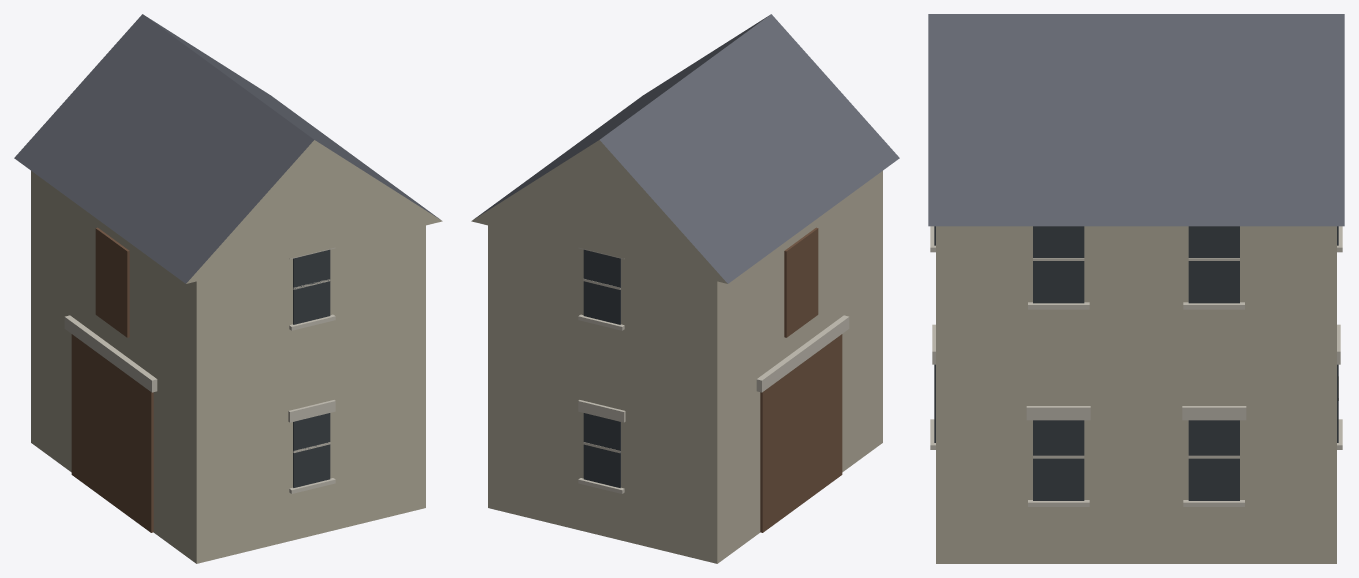
The model's file is house_2125_prairie_coach_house__draft_1904.glb.
3 renders of one model, left to right at view 1: azimuth 30°, elevation 25°; view 2: azimuth 150°, elevation 25°; view 3: azimuth 270°, elevation 25°, orthographic. The views are drawn at different scales.
Visible parts, largest first — view 1: house_2125_prairie_coach_house__draft_1904; view 2: house_2125_prairie_coach_house__draft_1904; view 3: house_2125_prairie_coach_house__draft_1904.
Part boxes in pixels (x1,y1,x2,y2): house_2125_prairie_coach_house__draft_1904: (14,14,442,563); house_2125_prairie_coach_house__draft_1904: (471,14,899,563); house_2125_prairie_coach_house__draft_1904: (928,14,1344,563).
Bounding box in the file's own units: 5.6 × 8.3 × 6.49.
